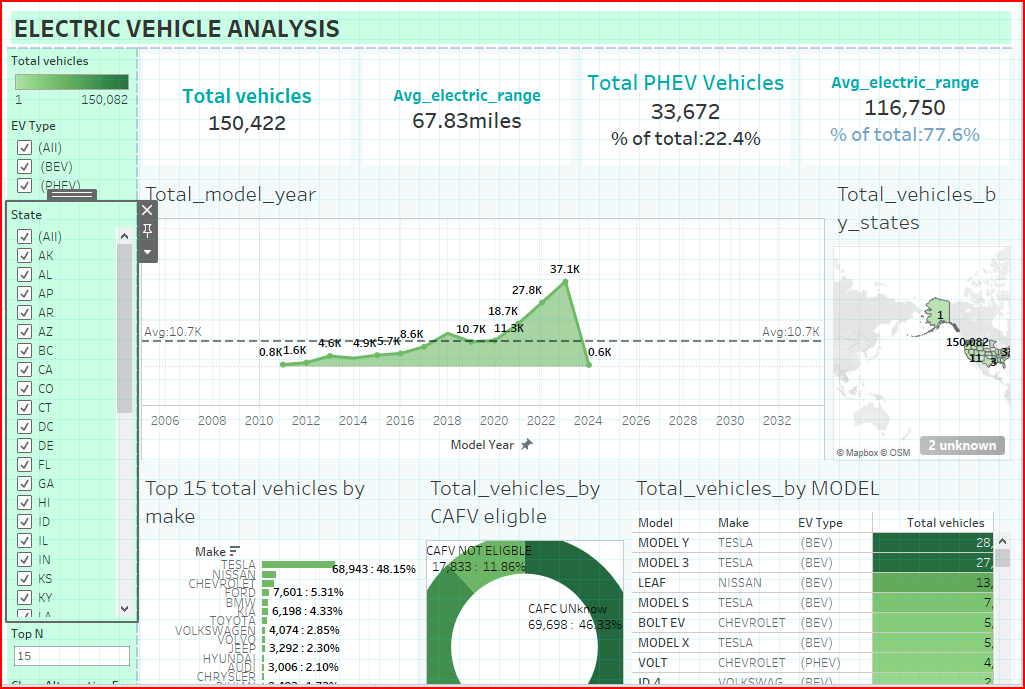

The page's visual inventory and layout, read from the dashboard file:
{"tool":"tableau","page":{"name":"Dashboard 3","canvas":[1600,900],"ordinal":0},"visuals":[{"type":"title","box":[8,8,1584,48]},{"type":"legend","title":"Total_vehicles_by_states","param":"[federated.0jrtmm91s2s5kr147kveq1v76r17].[usr:Calculation_2135832131231019008:qk","box":[8,56,204.9,65]},{"type":"worksheet","title":"Total_vehicles","mark":"Automatic","box":[213,56,345,145]},{"type":"worksheet","title":"Avg_electric_range ","mark":"Automatic","box":[558,56,345,145]},{"type":"worksheet","title":"Total PHEV Vehicles ","mark":"Automatic","box":[903,56,345,145]},{"type":"worksheet","title":"Total BEV Vehicles","mark":"Automatic","box":[1248,56,344,145]},{"type":"filter","title":"Top 10 total vehicles by make ","param":"[federated.0jrtmm91s2s5kr147kveq1v76r17].[none:Electric Vehicle Type:nk]","box":[8,121,204.9,89]},{"type":"worksheet","title":"Total_model_year","mark":"Area","rows":["Calculation_2135832131231019008","Calculation_2135832131231019008"],"cols":["Model Year"],"box":[212.9,201.1,692,345.4]},{"type":"worksheet","title":"Total_vehicles_by_states","mark":"Multipolygon","box":[904.9,201.1,687.1,345.4]},{"type":"filter","title":"Top 10 total vehicles by make ","param":"[federated.0jrtmm91s2s5kr147kveq1v76r17].[none:State:nk]","box":[8,210,204.9,544]},{"type":"worksheet","title":"Top 10 total vehicles by make ","mark":"Automatic","rows":["Make"],"cols":["Calculation_2135832131231019008"],"box":[212.9,546.5,447,345.5]},{"type":"worksheet","title":"Total_vehicles_by CAFV eligble ","mark":"Pie","rows":["Calculation_724516600853364737","Calculation_724516600853364737"],"box":[659.9,546.5,324,345.5]},{"type":"worksheet","title":"Total_vehicles_by MODEL","mark":"Square","rows":["Model","Make","Electric Vehicle Type"],"box":[983.9,546.5,608.1,345.5]},{"type":"parameter","param":"[Parameters].[Parameter 2]","box":[8,754,204.9,52]},{"type":"legend","title":"Total_vehicles_by CAFV eligble ","param":"[federated.0jrtmm91s2s5kr147kveq1v76r17].[none:Clean Alternative Fuel Vehicle (C","box":[8,806,204.9,86]}]}

Visuals, with their boxes in screenshot pixels (x1, y1, x2, y2):
"Total_vehicles_by_states" legend: box(3, 0, 137, 42)
"Total_vehicles" worksheet: box(137, 0, 363, 94)
"Avg_electric_range " worksheet: box(363, 0, 589, 94)
"Total PHEV Vehicles " worksheet: box(589, 0, 815, 94)
"Total BEV Vehicles" worksheet: box(815, 0, 1024, 94)
"Top 10 total vehicles by make " filter: box(3, 42, 137, 100)
"Total_model_year" worksheet (Area marks): box(137, 94, 590, 321)
"Total_vehicles_by_states" worksheet (Multipolygon marks): box(590, 94, 1024, 321)
"Top 10 total vehicles by make " filter: box(3, 100, 137, 456)
"Top 10 total vehicles by make " worksheet: box(137, 321, 430, 547)
"Total_vehicles_by CAFV eligble " worksheet (Pie marks): box(430, 321, 642, 547)
"Total_vehicles_by MODEL" worksheet (Square marks): box(642, 321, 1024, 547)
parameter: box(3, 456, 137, 491)
"Total_vehicles_by CAFV eligble " legend: box(3, 491, 137, 547)
